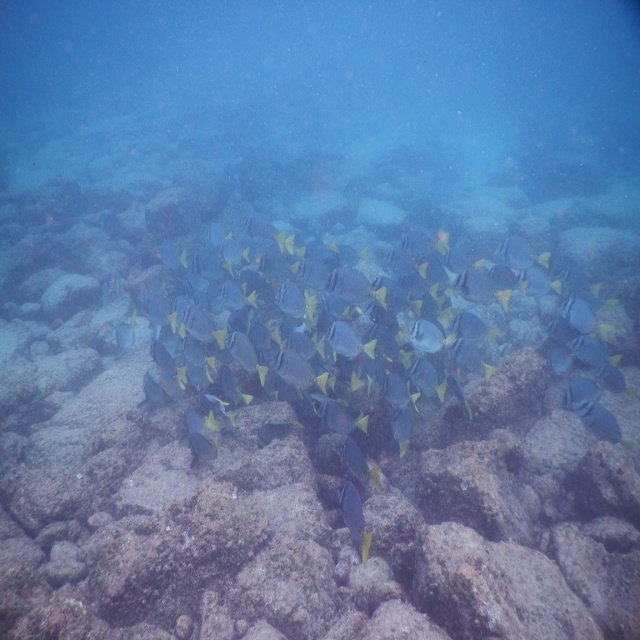Fish: (4, 0, 637, 566)
